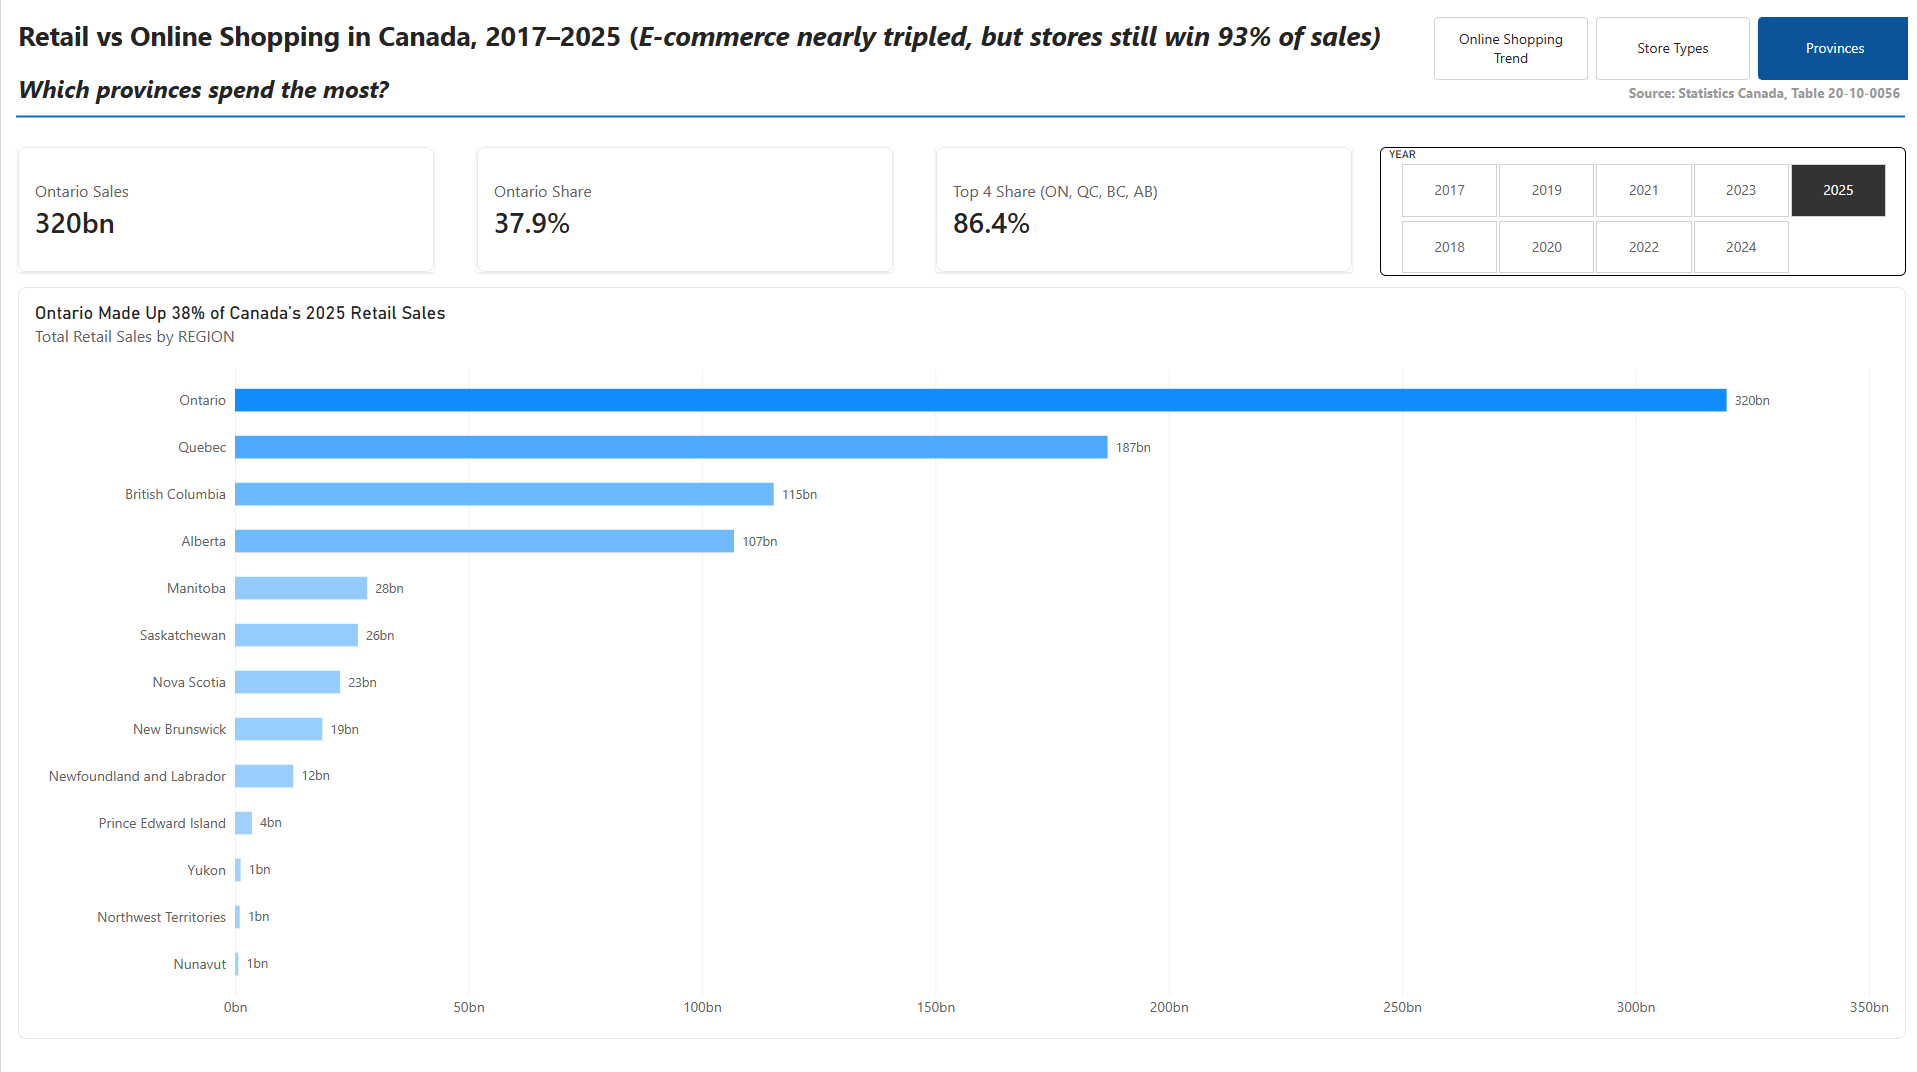

The page's visual inventory and layout, read from the dashboard file:
{"tool":"powerbi","page":{"name":"Provinces","canvas":[1920,1080],"ordinal":2},"visuals":[{"type":"clusteredBarChart","title":"Ontario Made Up 38% of Canada’s 2025 Retail Sales","fields":{"Category":["Retail_Sales.REGION"],"Y":["Retail_Sales.Total Retail Sales"]},"box":[17,288.2,1887.6,752],"z":0},{"type":"slicer","fields":{"Values":["Calendar.YEAR"]},"box":[1379.1,147.9,525.5,129.4],"z":1000},{"type":"pageNavigator","box":[1433.5,18.4,478.5,62.3],"z":2000},{"type":"textbox","box":[16.8,18.4,1903.7,97.8],"z":3000},{"type":"shape","box":[15.4,49.3,1889,136.9],"z":4000},{"type":"cardVisual","fields":{"Data":["Retail_Sales.Ontario Sales"]},"box":[17,147.9,415.6,125.5],"z":5000},{"type":"cardVisual","fields":{"Data":["Retail_Sales.Ontario Share %"]},"box":[476.1,147.9,415.6,125.5],"z":6000},{"type":"cardVisual","fields":{"Data":["Retail_Sales.Top 4 Share %"]},"box":[935.3,147.9,415.6,125.5],"z":7000},{"type":"shape","box":[1907,2,13,114],"z":7001}]}

Visuals, with their boxes in screenshot pixels (x1, y1, x2, y2), scaled from the page's 1920x1080 canvas onto the 1917x1072 screenshot:
"Ontario Made Up 38% of Canada’s 2025 Retail Sales" clusteredBarChart: bbox=[17, 286, 1902, 1032]
slicer - Calendar.YEAR: bbox=[1377, 147, 1902, 275]
pageNavigator: bbox=[1431, 18, 1909, 80]
textbox: bbox=[17, 18, 1916, 115]
shape: bbox=[15, 49, 1901, 185]
cardVisual - Retail_Sales.Ontario Sales: bbox=[17, 147, 432, 271]
cardVisual - Retail_Sales.Ontario Share %: bbox=[475, 147, 890, 271]
cardVisual - Retail_Sales.Top 4 Share %: bbox=[934, 147, 1349, 271]
shape: bbox=[1904, 2, 1916, 115]
